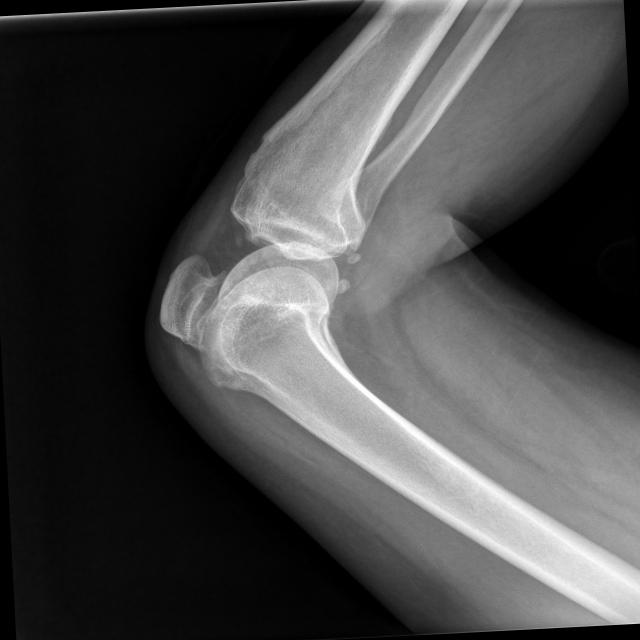Knee: (150, 148, 373, 398)
